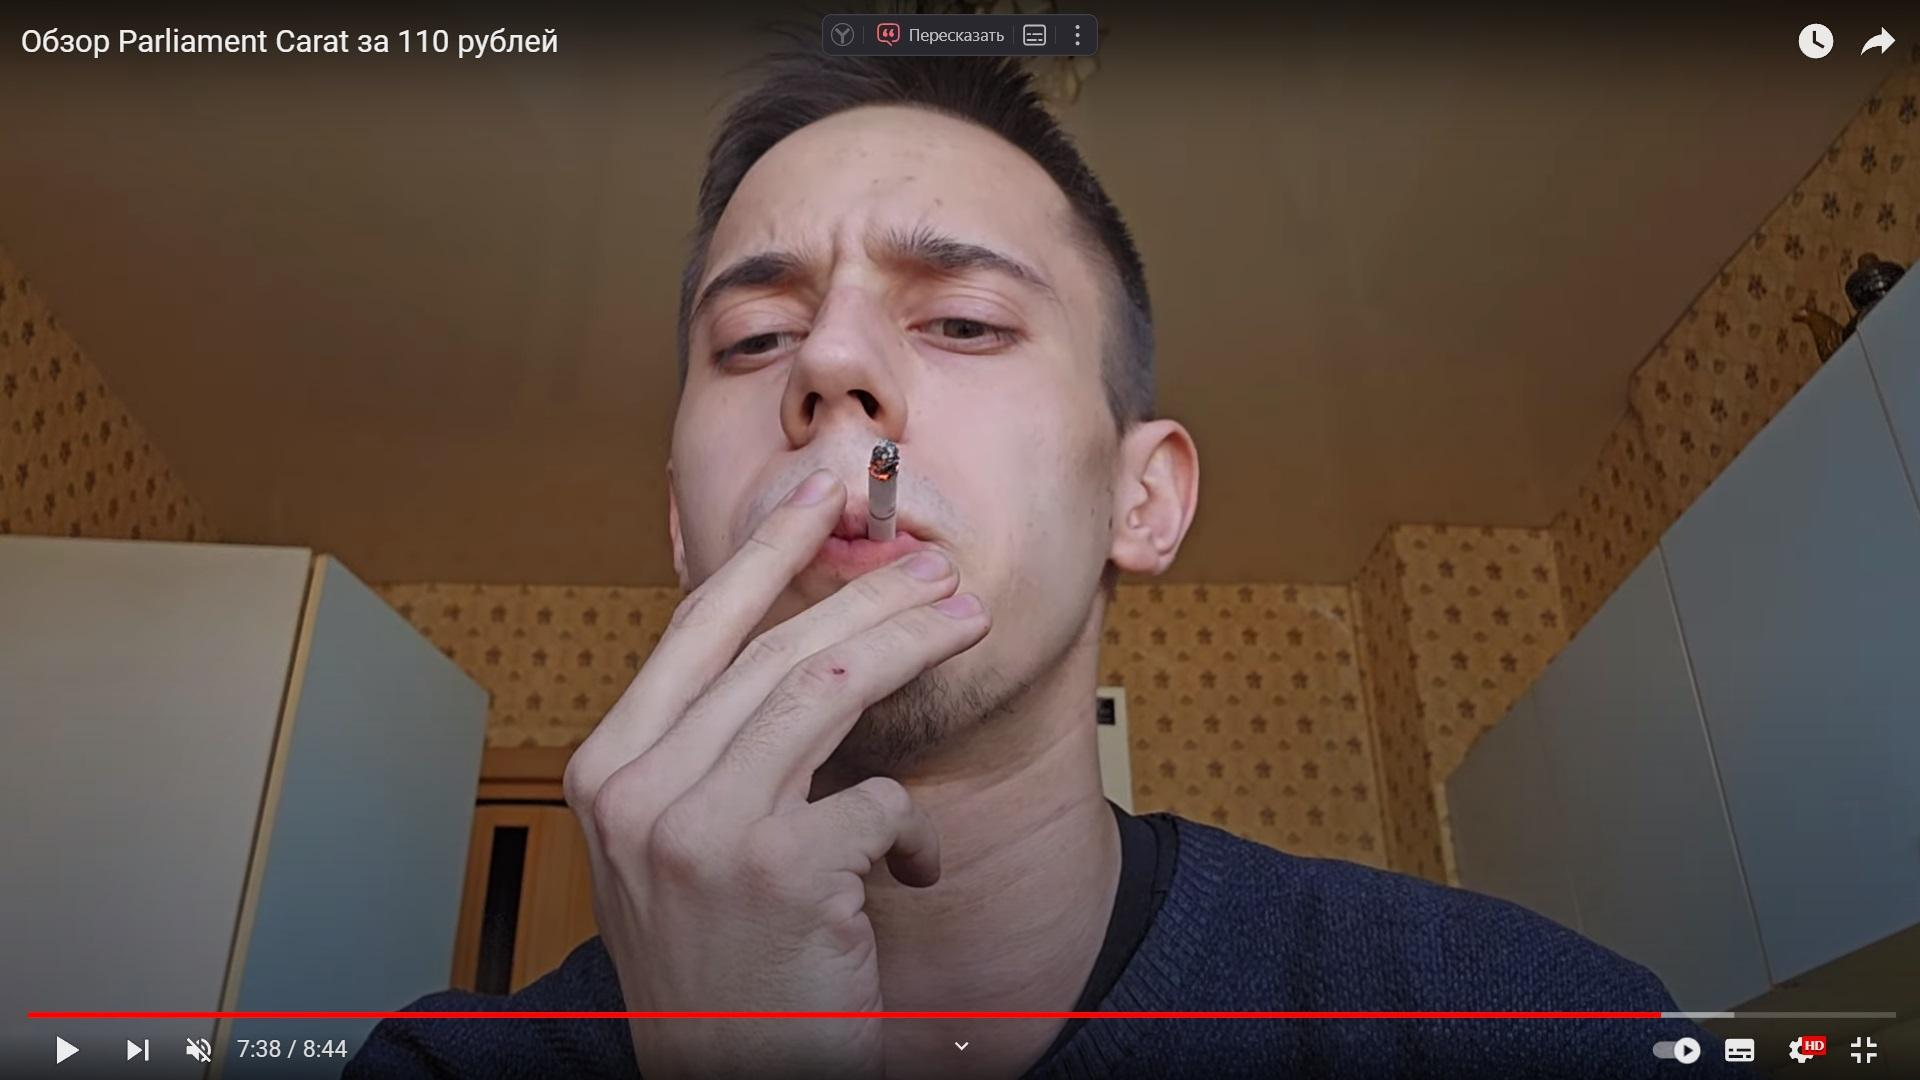cigarette: (866, 439, 902, 541)
